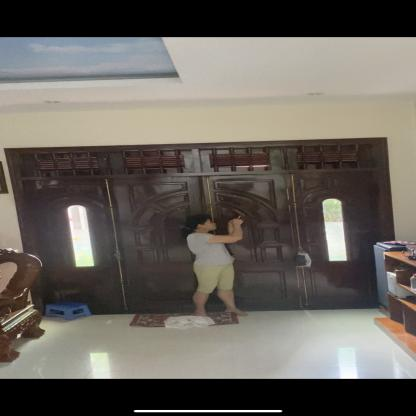cigarette: (237, 216, 242, 219)
person: (185, 212, 247, 320)
